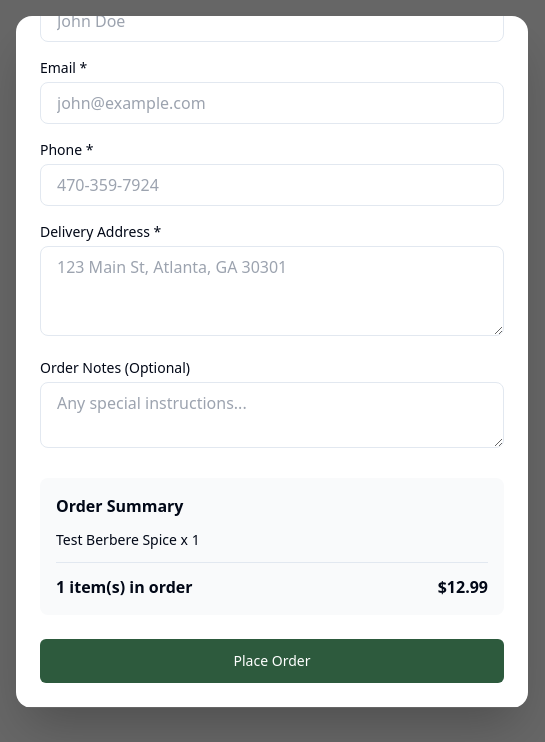
Scenario: Checkout Flow Integration › validates required fields
(page scrolled)
Click the button "Place Order": (272, 661) [40, 639, 504, 683]
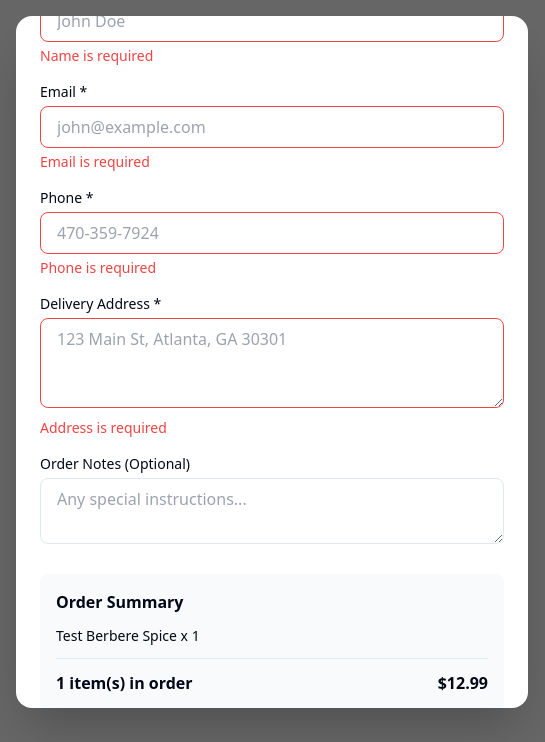
expect the text "Name is required" is shown: met, box [40, 46, 153, 65]
